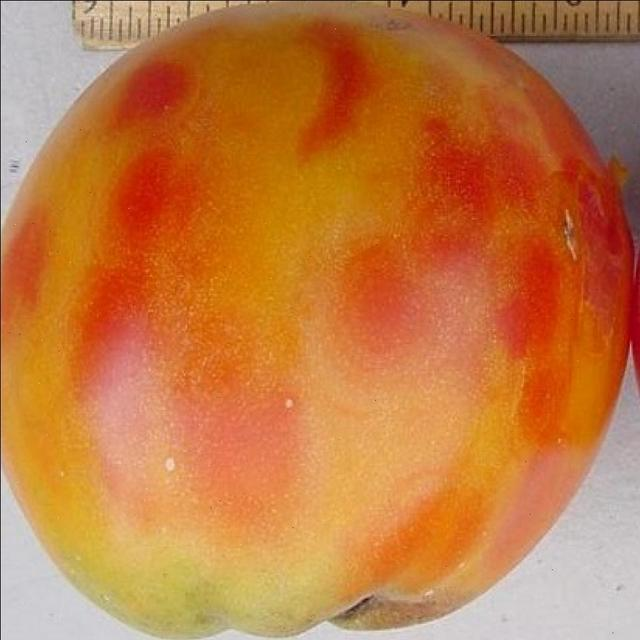Spotted wilt Virus Fruit: (0, 4, 416, 424)
